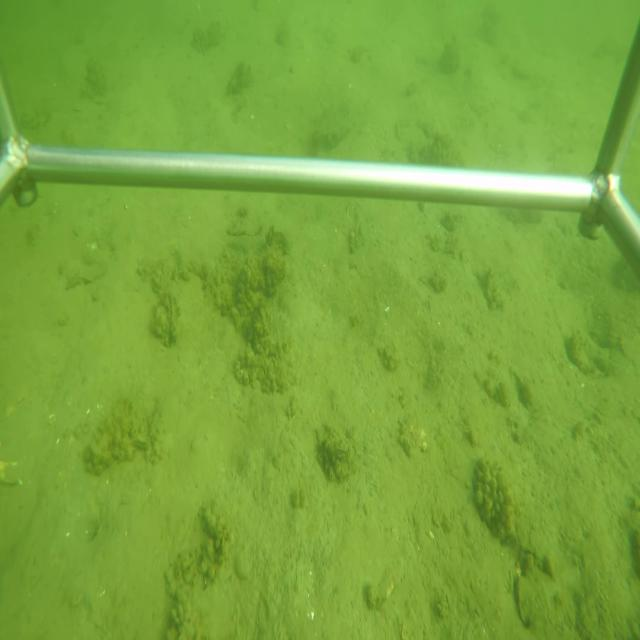Oyster-Indeterminate: (514, 573, 535, 631)
